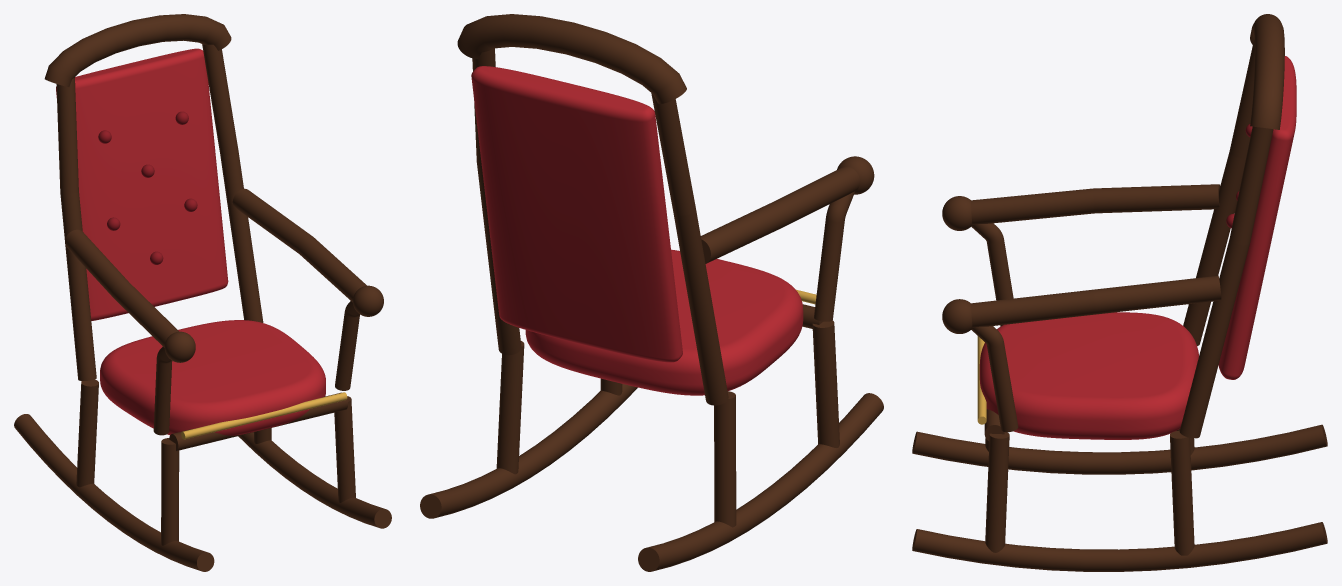
The model's file is rocker.glb.
3 views of the same model, side by side, from view 1: azimuth 30°, elevation 25°; view 2: azimuth 150°, elevation 25°; view 3: azimuth 270°, elevation 25° (orthographic). The views are drawn at different scales.
Parts seen in each view (by area): view 1: BackPad, Seat, Post_L, Crest, Post_R, Rocker_L, ArmRail_R, ArmRail_L, Rocker_R, LegB_L, LegF_L, LegF_R (+6 smaller); view 2: BackPad, Seat, Crest, Post_L, Rocker_L, Rocker_R, ArmRail_L, LegB_L, LegF_L, LegB_R, ArmPost_L, Post_R (+1 smaller); view 3: Seat, Rocker_R, Rocker_L, Post_R, BackPad, ArmRail_R, ArmRail_L, Post_L, Crest, LegB_R, LegF_R, ArmPost_R (+4 smaller).
Boxes of the visible parts, x1,y1,x2,y2 form: BackPad: [56, 48, 228, 320]; Seat: [100, 320, 325, 435]; Post_L: [56, 77, 96, 380]; Crest: [44, 14, 231, 86]; Post_R: [202, 44, 263, 322]; Rocker_L: [14, 414, 214, 571]; ArmRail_R: [232, 188, 366, 302]; ArmRail_L: [65, 229, 178, 347]; Rocker_R: [238, 432, 391, 528]; LegB_L: [76, 379, 98, 487]; LegF_L: [161, 438, 179, 545]; LegF_R: [334, 396, 355, 502]; BackPad: [471, 66, 682, 362]; Seat: [525, 249, 803, 395]; Crest: [457, 14, 686, 103]; Post_L: [651, 93, 728, 405]; Rocker_L: [638, 393, 883, 571]; Rocker_R: [420, 384, 637, 518]; ArmRail_L: [700, 166, 859, 263]; LegB_L: [714, 391, 736, 527]; LegF_L: [812, 320, 839, 447]; LegB_R: [496, 341, 524, 474]; ArmPost_L: [814, 191, 854, 321]; Post_R: [472, 48, 521, 355]; Seat: [979, 312, 1198, 439]; Rocker_R: [912, 522, 1327, 571]; Rocker_L: [912, 424, 1327, 474]; Post_R: [1179, 126, 1273, 438]; BackPad: [1218, 56, 1296, 379]; ArmRail_R: [971, 275, 1221, 327]; ArmRail_L: [971, 184, 1220, 224]; Post_L: [1183, 40, 1254, 345]; Crest: [1250, 14, 1284, 129]; LegB_R: [1170, 430, 1194, 555]; LegF_R: [985, 432, 1009, 552]; ArmPost_R: [971, 326, 1018, 432].
Bounding box in the file's own units: 0.5576 × 1.07 × 0.8305.
